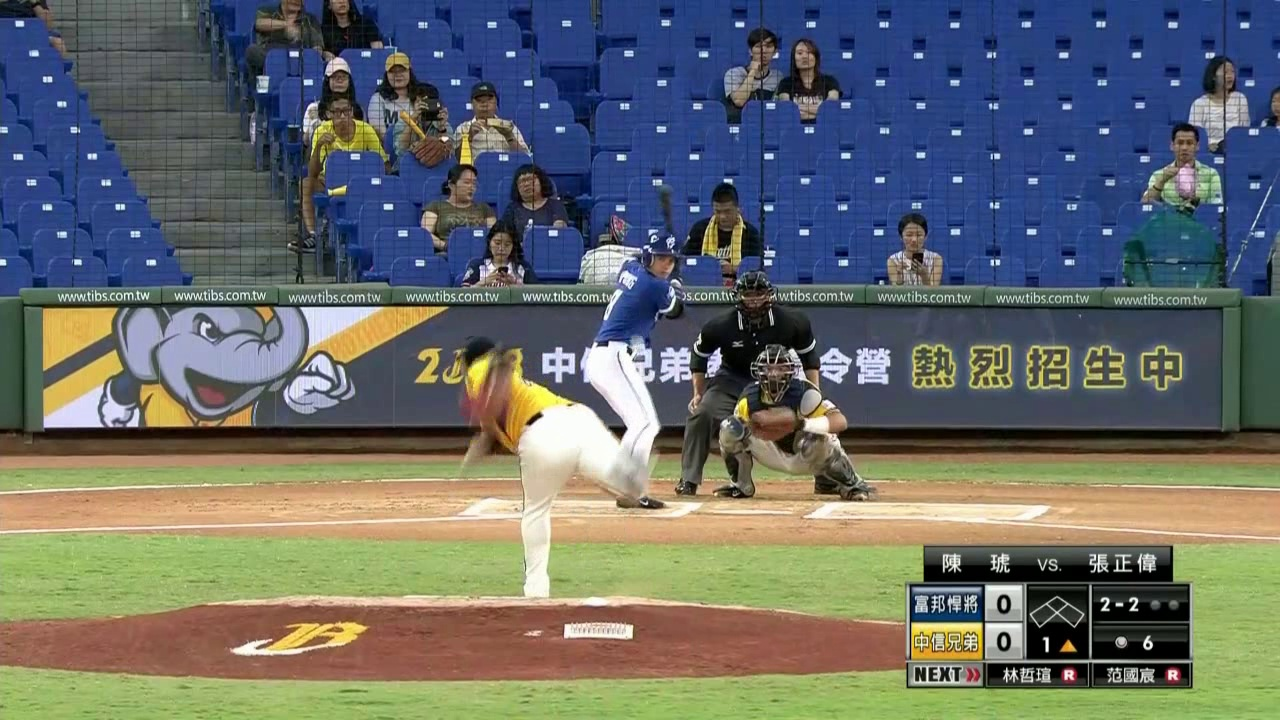ball: (630, 342, 646, 351)
base: (1031, 594, 1084, 632)
bat: (664, 189, 675, 236)
out: (1148, 595, 1183, 613)
score1: (987, 588, 1020, 620)
score2: (989, 623, 1021, 661)
session: (1027, 632, 1082, 661)
strikeball: (1096, 592, 1142, 615)
total: (1110, 629, 1157, 653)
